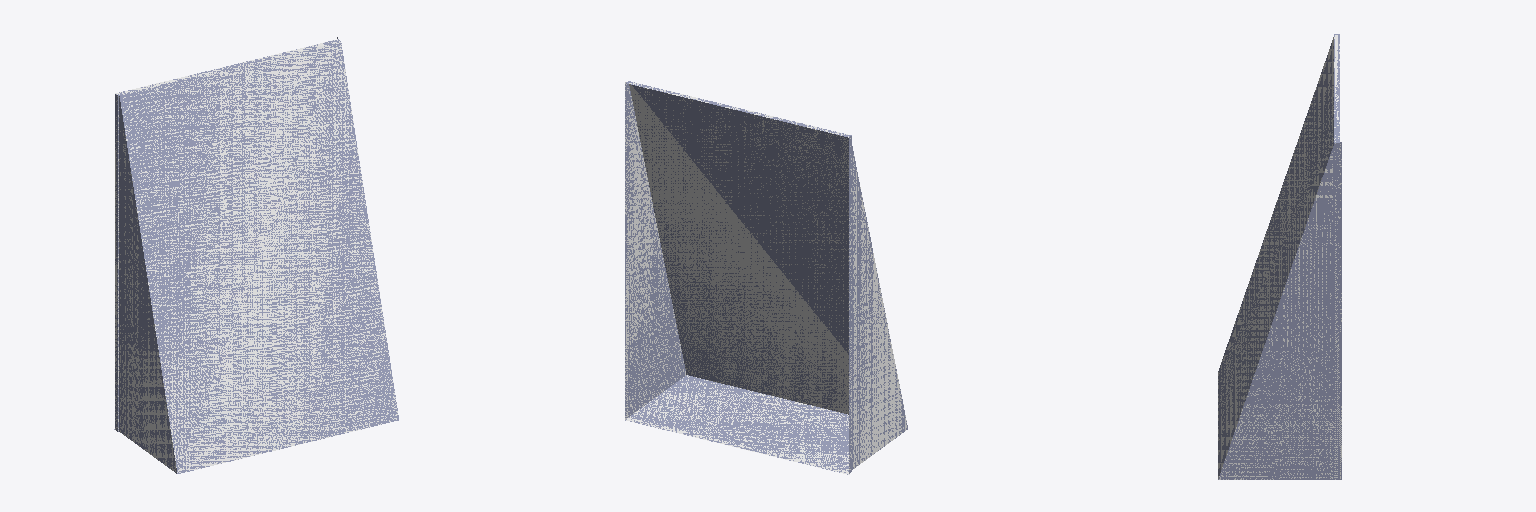
File: original-2.obj
3 views of the same model, side by side, from view 1: azimuth 30°, elevation 25°; view 2: azimuth 150°, elevation 25°; view 3: azimuth 270°, elevation 25° (orthographic).
Parts seen in each view (by area): view 1: mesh2/mesh2-geometry#mesh2-geometry; view 2: mesh2/mesh2-geometry#mesh2-geometry; view 3: mesh2/mesh2-geometry#mesh2-geometry.
Part boxes in pixels (x1,y1,x2,y2): mesh2/mesh2-geometry#mesh2-geometry: (114,37,398,473); mesh2/mesh2-geometry#mesh2-geometry: (625,81,907,474); mesh2/mesh2-geometry#mesh2-geometry: (1218,34,1341,479).
Bounding box in the file's own units: 0.4372 × 0.6286 × 0.2086.